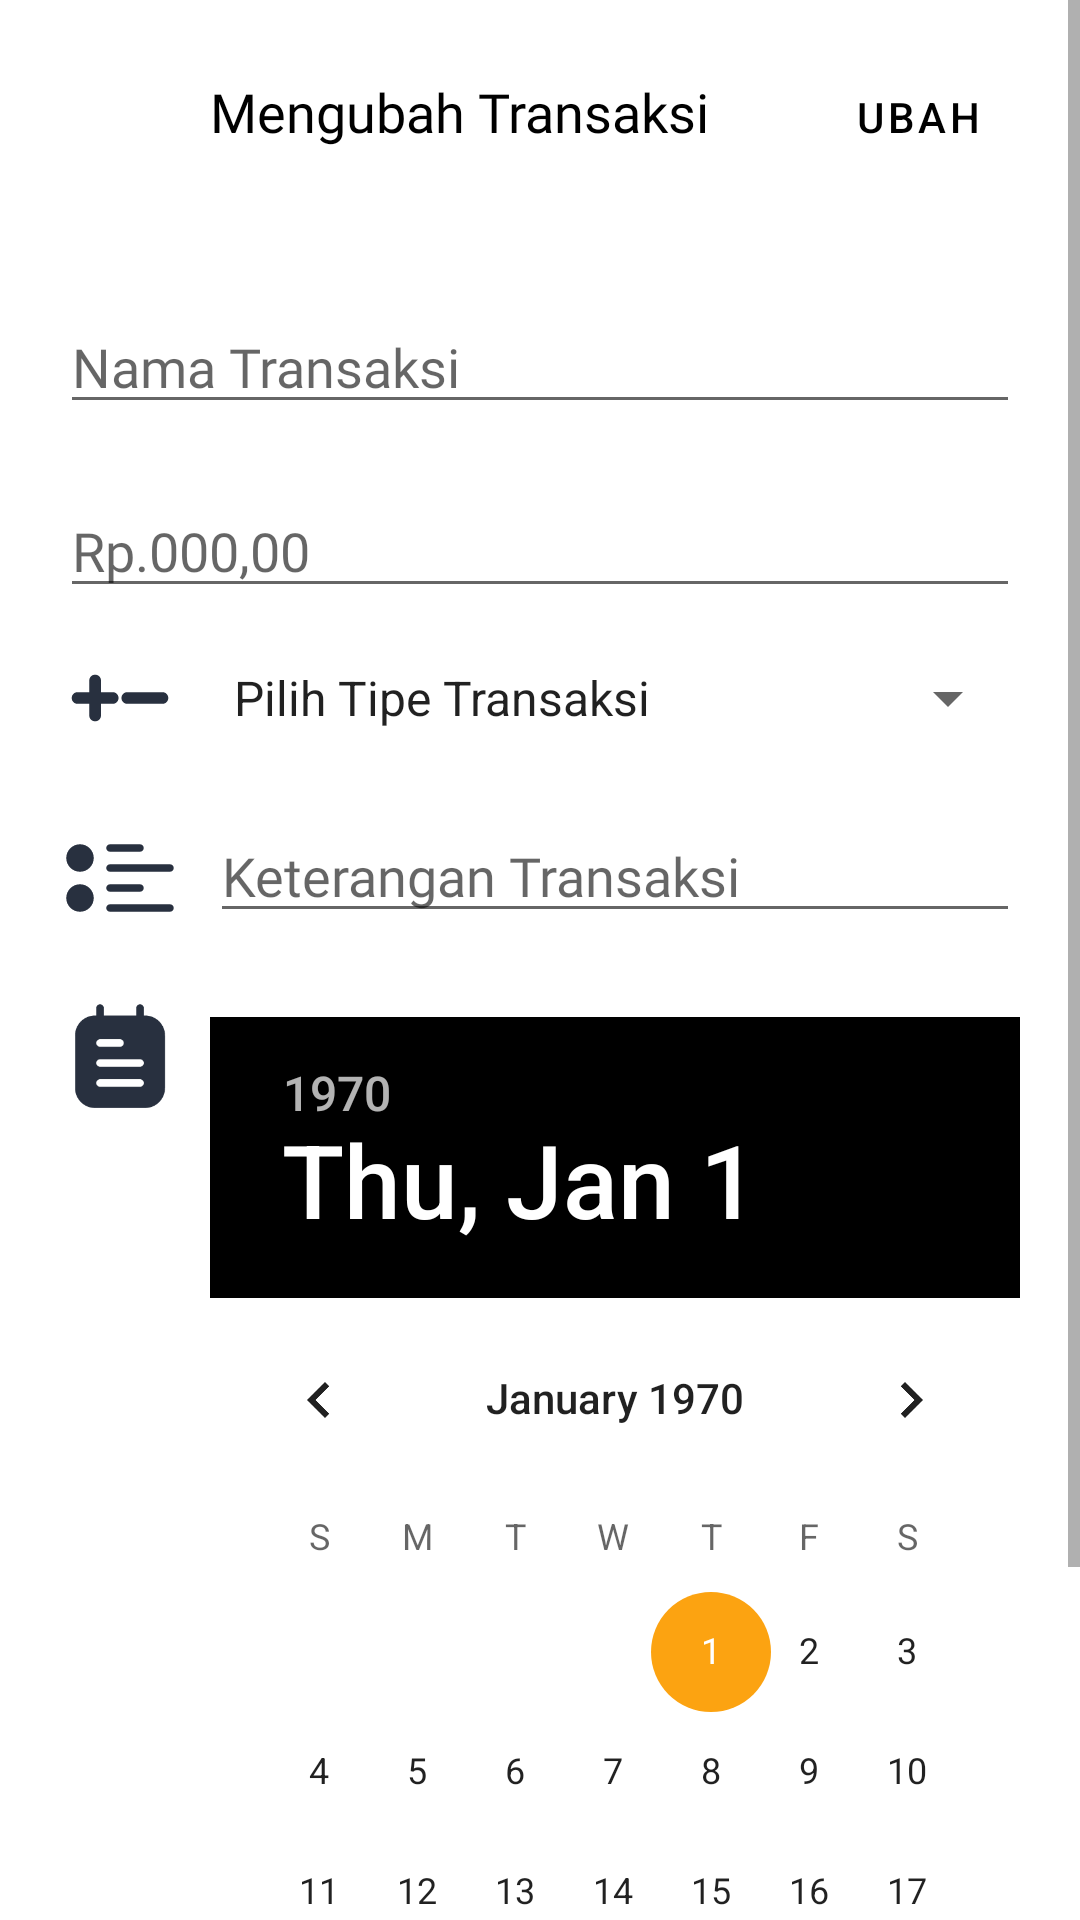

Screen size 1080w x 1920h. Icon name, then its box in pixels as (x1, y1, x2, y2):
agenda: (75, 1004, 165, 1108)
list view circle: (66, 844, 174, 912)
plusminus: (71, 674, 169, 722)
